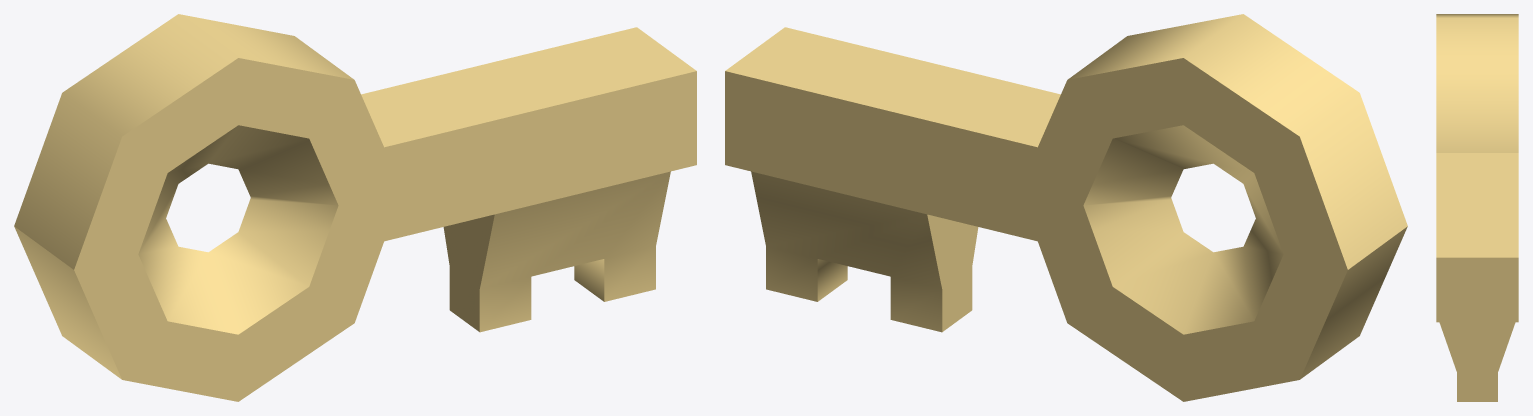
3 renders of one model, left to right at view 1: azimuth 30°, elevation 25°; view 2: azimuth 150°, elevation 25°; view 3: azimuth 270°, elevation 25°, orthographic. The views are drawn at different scales.
Visible parts, largest first — view 1: key; view 2: key; view 3: key.
Part boxes in pixels (x1,y1,x2,y2): key: (14,14,696,401); key: (725,14,1407,401); key: (1436,14,1518,401).
Bounding box in the file's own units: 0.4067 × 0.2172 × 0.0679.
